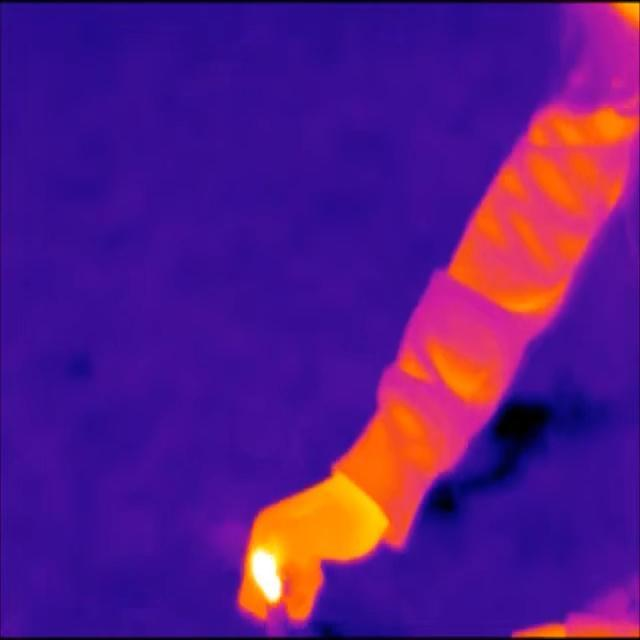fire: (250, 542, 286, 612)
